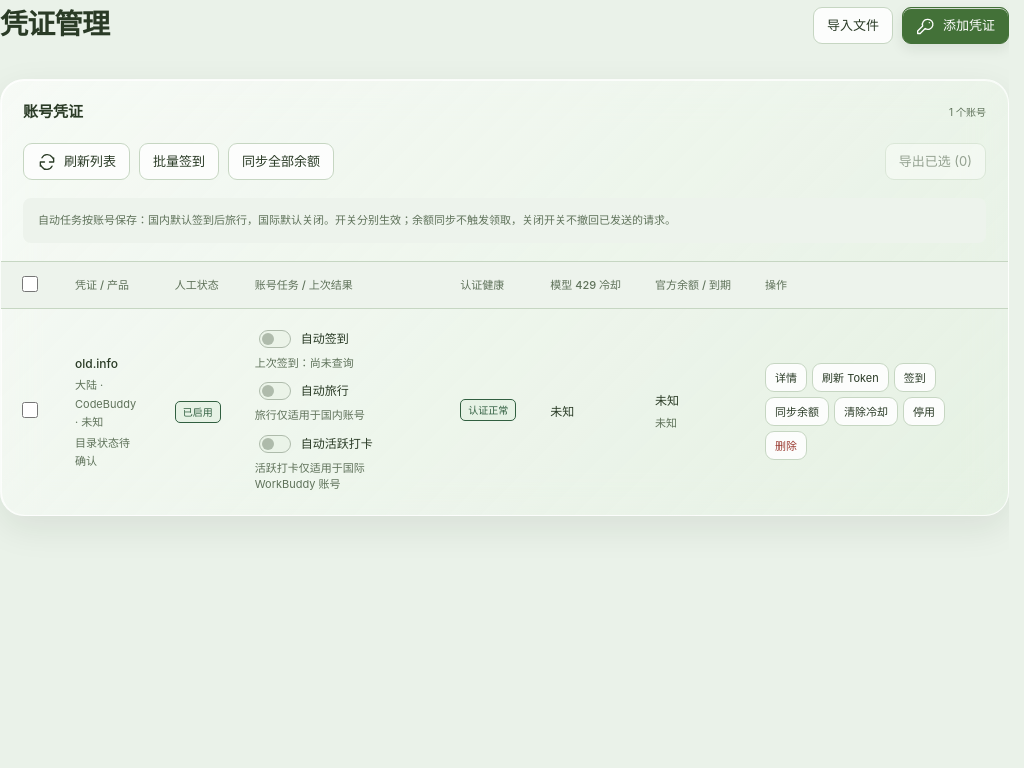
OAuth enrollment completion › keeps the dialog open and stops polling when enrollment fails
The width and height of the screenshot is (1024, 768).
Click the button "添加凭证".
click(956, 26)  # box [902, 7, 1009, 44]
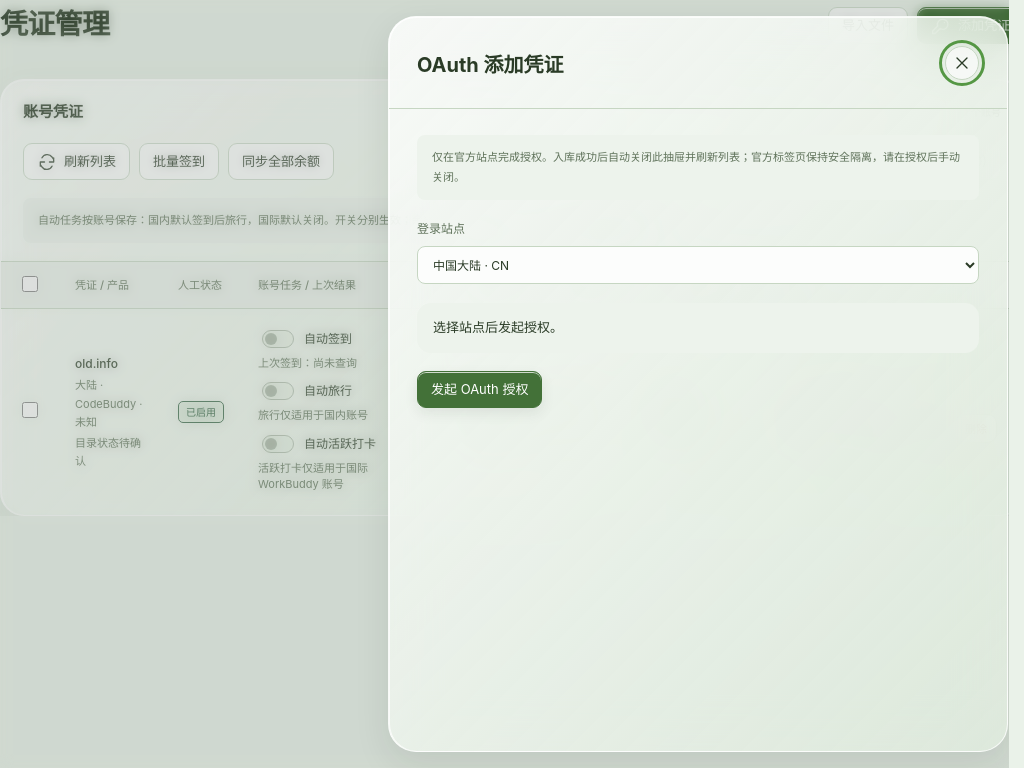
Click the button "发起 OAuth 授权".
click(480, 390)  # box [417, 371, 542, 408]
Wait 16000 ms
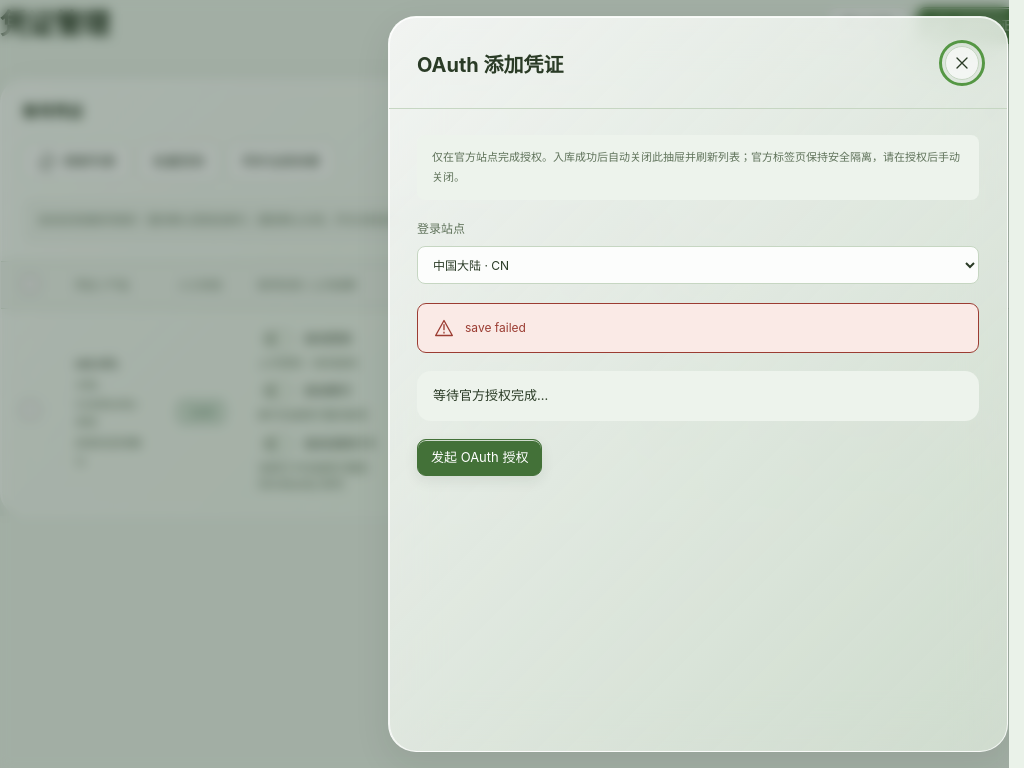
Result: the dialog is shown at [388, 16, 1008, 752]
Result: the text "save failed" is shown at [465, 318, 526, 338]
